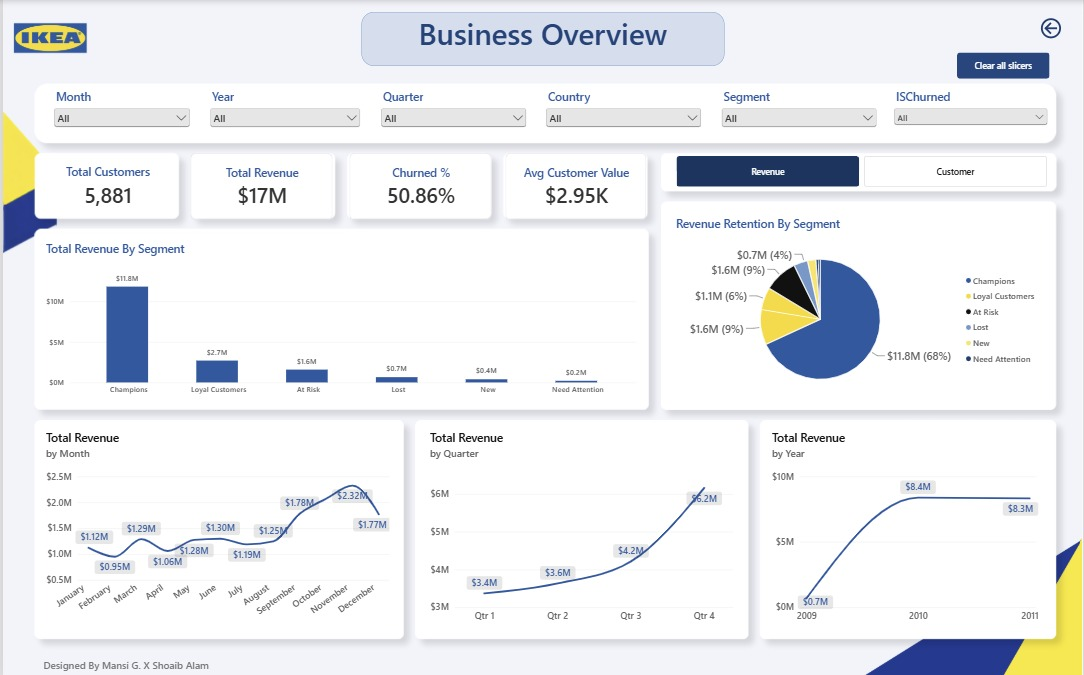

The page's visual inventory and layout, read from the dashboard file:
{"tool":"powerbi","page":{"name":"Overview","canvas":[1750,1100],"ordinal":1},"visuals":[{"type":"cardVisual","fields":{"Data":["Sheet1.Total Customers"]},"box":[53.5,247.9,233.3,109.4],"z":0},{"type":"columnChart","title":"Total Revenue By Segment","fields":{"Category":["Sheet1.Segment"],"Y":["Sheet1.Total Revenue"]},"box":[54.2,376.8,988.6,283.9],"z":0,"group":"g1"},{"type":"cardVisual","fields":{"Data":["Sheet1.Total Revenue"]},"box":[303.8,247.9,230.9,109.4],"z":1000},{"type":"pieChart","title":"Revenue Retention By Segment","fields":{"Category":["Sheet1.Segment"],"Series":["Sheet1.ISChurned"],"Y":["Sheet1.Total Revenue"]},"box":[1073.7,335.5,622.1,325.2],"z":1000,"group":"g1"},{"type":"cardVisual","fields":{"Data":["Sheet1.Churned %"]},"box":[561.4,247.9,230.9,109.4],"z":2000},{"type":"lineChart","fields":{"Category":["Sheet1.InvoiceMonth.Variation.Date Hierarchy.Year"],"Y":["Sheet1.Total Revenue"]},"box":[1231.2,684,464.6,345.9],"z":2000,"group":"g1"},{"type":"cardVisual","fields":{"Data":["Sheet1.Avg Customer Value"]},"box":[814.1,247.9,228.4,109.4],"z":3000},{"type":"lineChart","fields":{"Category":["Sheet1.InvoiceMonth.Variation.Date Hierarchy.Quarter"],"Y":["Sheet1.Total Revenue"]},"box":[676.3,684,524,345.9],"z":3000,"group":"g1"},{"type":"slicer","fields":{"Values":["Sheet1.InvoiceDate.Variation.Date Hierarchy.Month"]},"box":[77.8,143.4,229.7,103.2],"z":4000},{"type":"lineChart","fields":{"Category":["Sheet1.InvoiceMonth.Variation.Date Hierarchy.Month"],"Y":["Sheet1.Total Revenue"]},"box":[54.2,684,588.5,345.9],"z":4000,"group":"g1"},{"type":"slicer","fields":{"Values":["Sheet1.InvoiceDate.Variation.Date Hierarchy.Quarter"]},"box":[606.6,144.5,245.2,103.2],"z":5000},{"type":"slicer","fields":{"Values":["Sheet1.InvoiceDate.Variation.Date Hierarchy.Year"]},"box":[330.4,144.5,252.9,103.2],"z":6000},{"type":"slicer","fields":{"Values":["Sheet1.Country"]},"box":[875,144.5,260.7,100.7],"z":7000},{"type":"slicer","fields":{"Values":["Sheet1.Segment"]},"box":[1158.9,144.5,260.7,100.7],"z":8000},{"type":"slicer","fields":{"Values":["Sheet1.ISChurned"]},"box":[1437.7,144.5,258.1,100.7],"z":9000},{"type":"group","id":"g1","title":"Revenue","box":[54.2,335.5,1641.6,694.3],"z":11000},{"type":"bookmarkNavigator","box":[1091.8,252.9,600,50],"z":12000},{"type":"image","box":[0,0,153.1,123.9],"z":13000},{"type":"textbox","box":[65.6,1066.8,634.3,34],"z":14000},{"type":"textbox","box":[580.8,19.4,588.1,87.5],"z":15000},{"type":"actionButton","box":[1647.6,24.3,100,40],"z":16000},{"type":"actionButton","box":[1546.6,84.2,150,42.5],"z":17000}]}

Visuals, with their boxes in screenshot pixels (x1, y1, x2, y2), scaled from the page's 1750x1100 canvas onto the 1084x675 screenshot:
cardVisual - Sheet1.Total Customers: 33:152:178:219
"Total Revenue By Segment" columnChart: 34:231:646:405
cardVisual - Sheet1.Total Revenue: 188:152:331:219
"Revenue Retention By Segment" pieChart: 665:206:1050:405
cardVisual - Sheet1.Churned %: 348:152:491:219
lineChart - Sheet1.InvoiceMonth.Variation.Date Hierarchy.Year x Sheet1.Total Revenue: 763:420:1050:632
cardVisual - Sheet1.Avg Customer Value: 504:152:646:219
lineChart - Sheet1.InvoiceMonth.Variation.Date Hierarchy.Quarter x Sheet1.Total Revenue: 419:420:744:632
slicer - Sheet1.InvoiceDate.Variation.Date Hierarchy.Month: 48:88:190:151
lineChart - Sheet1.InvoiceMonth.Variation.Date Hierarchy.Month x Sheet1.Total Revenue: 34:420:398:632
slicer - Sheet1.InvoiceDate.Variation.Date Hierarchy.Quarter: 376:89:528:152
slicer - Sheet1.InvoiceDate.Variation.Date Hierarchy.Year: 205:89:361:152
slicer - Sheet1.Country: 542:89:703:150
slicer - Sheet1.Segment: 718:89:879:150
slicer - Sheet1.ISChurned: 891:89:1050:150
"Revenue" group: 34:206:1050:632
bookmarkNavigator: 676:155:1048:186
image: 0:0:95:76
textbox: 41:655:434:674
textbox: 360:12:724:66
actionButton: 1021:15:1083:39
actionButton: 958:52:1051:78
